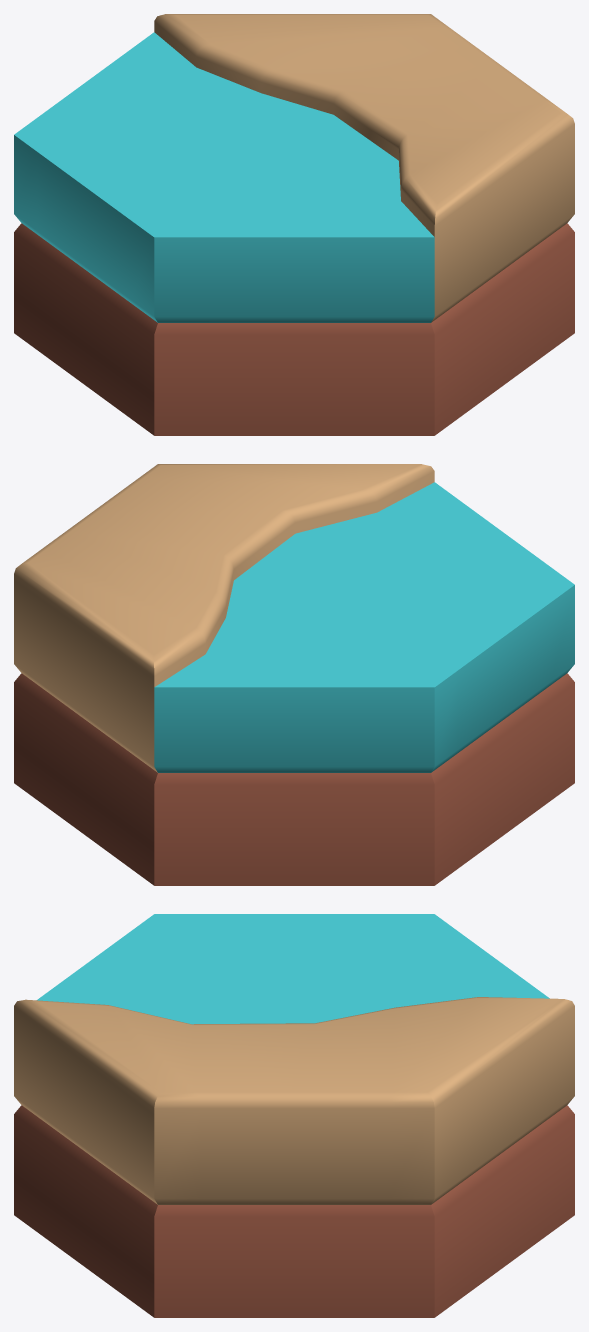
Rendered from hex_sand_waterC_detail.glb.
3 views of the same model, one above another, from view 1: azimuth 30°, elevation 25°; view 2: azimuth 150°, elevation 25°; view 3: azimuth 270°, elevation 25° (orthographic).
Parts seen in each view (by area): view 1: hex_sand_waterC_detail; view 2: hex_sand_waterC_detail; view 3: hex_sand_waterC_detail.
Part boxes in pixels (x1=…): hex_sand_waterC_detail: x1=14, y1=14, x2=574, y2=435; hex_sand_waterC_detail: x1=14, y1=464, x2=574, y2=885; hex_sand_waterC_detail: x1=14, y1=914, x2=574, y2=1317.
Size of the model in its own units: 2 by 1 by 2.31.
